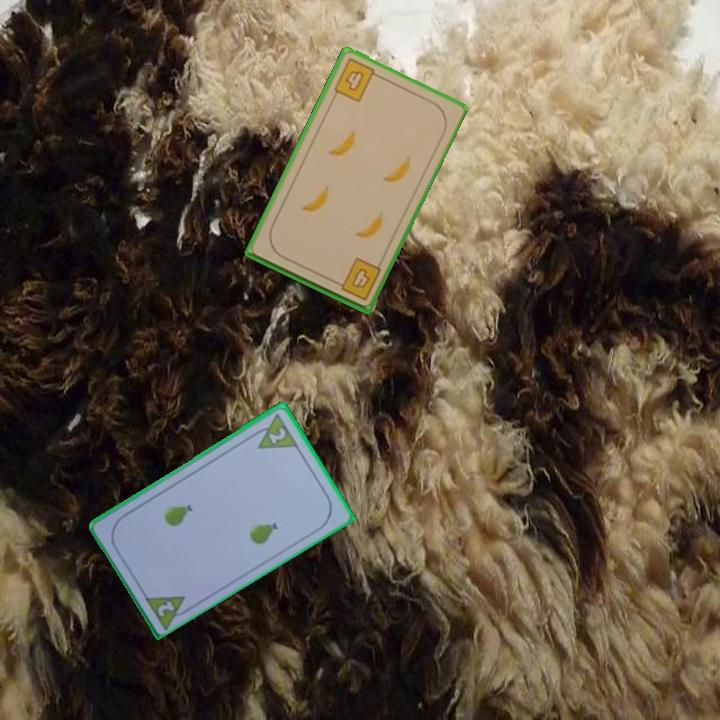2p: (248, 409, 301, 452), (153, 596, 178, 619)
4b: (330, 54, 383, 105), (330, 254, 384, 303)
